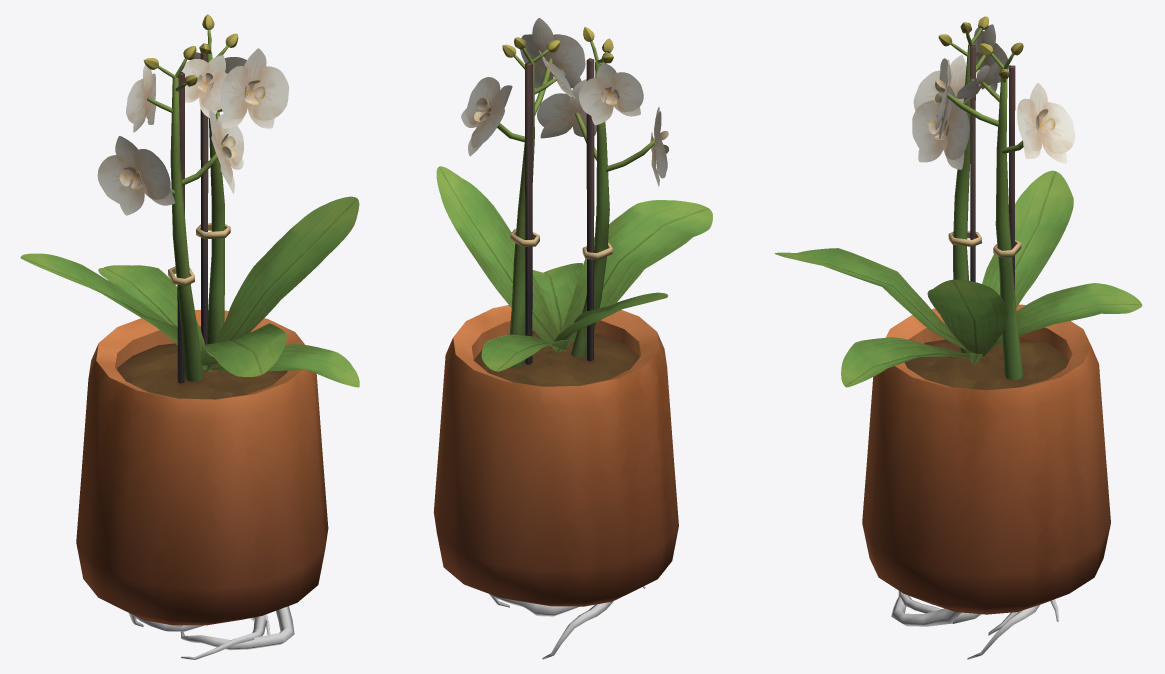
File: MDL_OrchidRootCheck.fbx
3 renders of one model, left to right at view 1: azimuth 30°, elevation 25°; view 2: azimuth 150°, elevation 25°; view 3: azimuth 270°, elevation 25°, orthographic. The views are drawn at different scales.
Parts seen in each view (by area): view 1: MDL_OrchidRootCheck; view 2: MDL_OrchidRootCheck; view 3: MDL_OrchidRootCheck.
Part boxes in pixels (bbox=[...]): MDL_OrchidRootCheck: bbox=[20, 14, 359, 659]; MDL_OrchidRootCheck: bbox=[433, 18, 712, 659]; MDL_OrchidRootCheck: bbox=[774, 16, 1142, 659].
Bounding box in the file's own units: 45.55 × 89.01 × 51.57.
